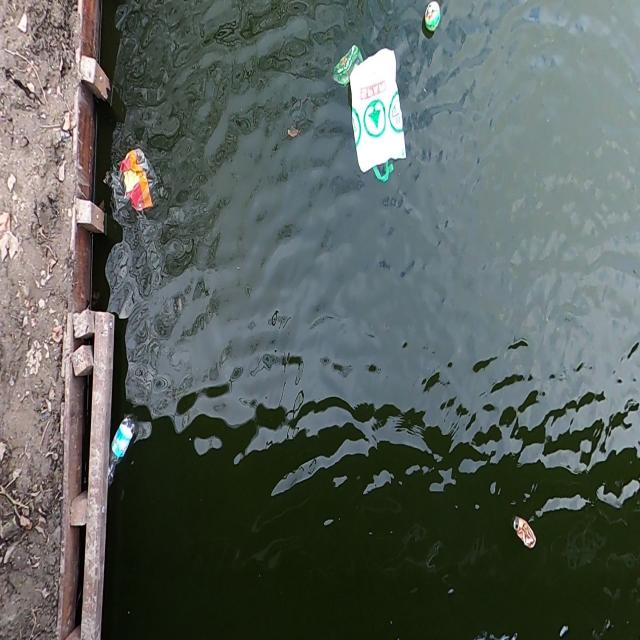Autre plastique: (421, 1, 445, 40)
Bouteille plastique: (106, 412, 138, 489)
Non plastique: (510, 516, 539, 555)
Sac plastique: (351, 45, 408, 188), (108, 145, 163, 229), (330, 35, 364, 86)
